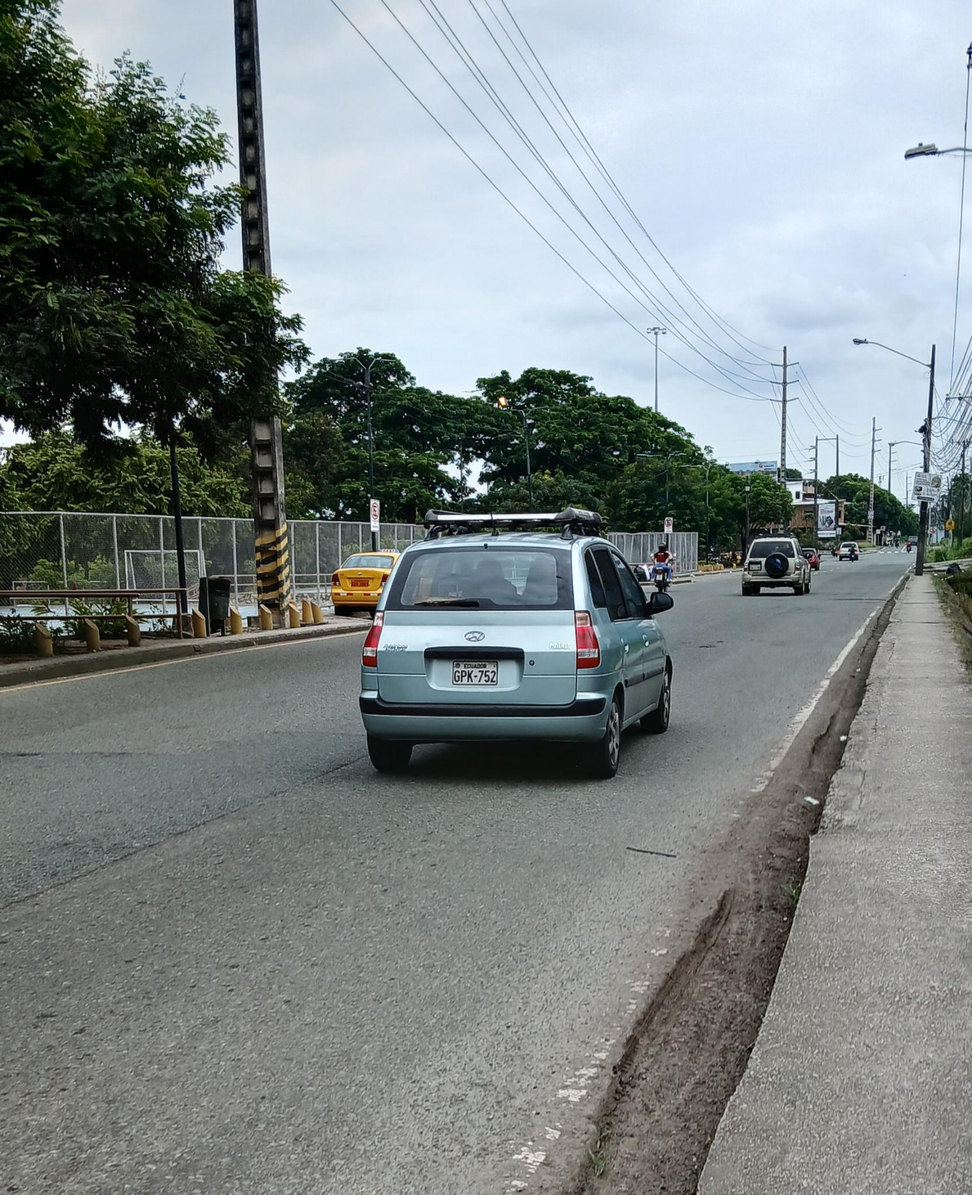license_plate: (449, 660, 499, 685), (350, 579, 371, 587)
